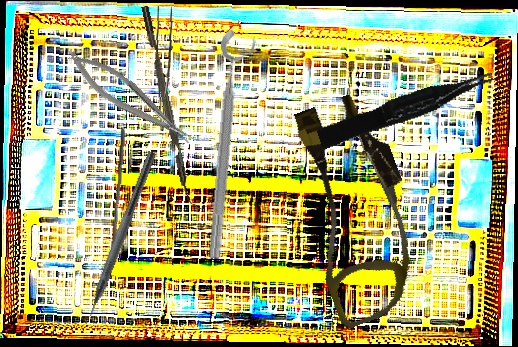Cannula: (268, 87, 444, 331)
Chopper: (71, 146, 157, 331), (141, 3, 202, 213)
Fixation Ring: (202, 29, 259, 261)
Needle Holder: (62, 41, 198, 157)
Pusher: (109, 127, 126, 260)
Tissue Forceps: (314, 68, 499, 150), (153, 5, 179, 132)
